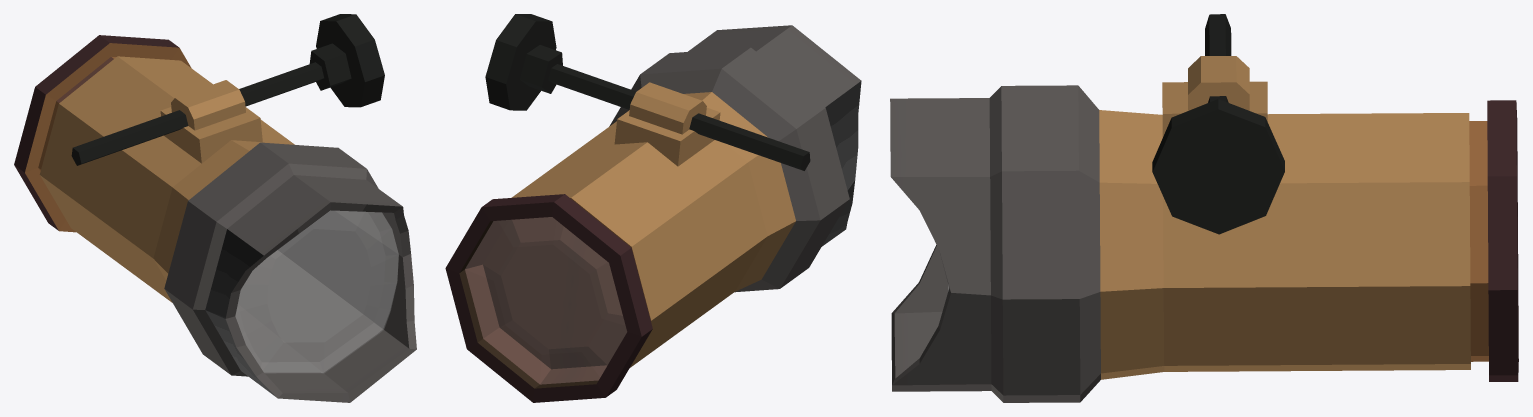
The model's file is Prop_Lent.fbx.
3 renders of one model, left to right at view 1: azimuth 30°, elevation 25°; view 2: azimuth 150°, elevation 25°; view 3: azimuth 270°, elevation 25°, orthographic. The views are drawn at different scales.
Visible parts, largest first — view 1: Cylinder.062, Cylinder.065, Cylinder.063, Cylinder.064; view 2: Cylinder.062, Cylinder.066, Cylinder.063, Cylinder.064; view 3: Cylinder.062, Cylinder.064, Cylinder.063.
Part boxes in pixels (x1,y1,x2,y2): Cylinder.062: [14, 35, 416, 402]; Cylinder.065: [235, 210, 398, 373]; Cylinder.063: [71, 43, 351, 165]; Cylinder.064: [316, 14, 384, 107]; Cylinder.062: [445, 25, 861, 402]; Cylinder.066: [465, 217, 626, 384]; Cylinder.063: [520, 45, 810, 170]; Cylinder.064: [485, 14, 556, 110]; Cylinder.062: [890, 56, 1518, 402]; Cylinder.064: [1152, 99, 1284, 234]; Cylinder.063: [1205, 14, 1231, 102].
Bounding box in the file's own units: 0.0874 × 0.0802 × 0.1212.
